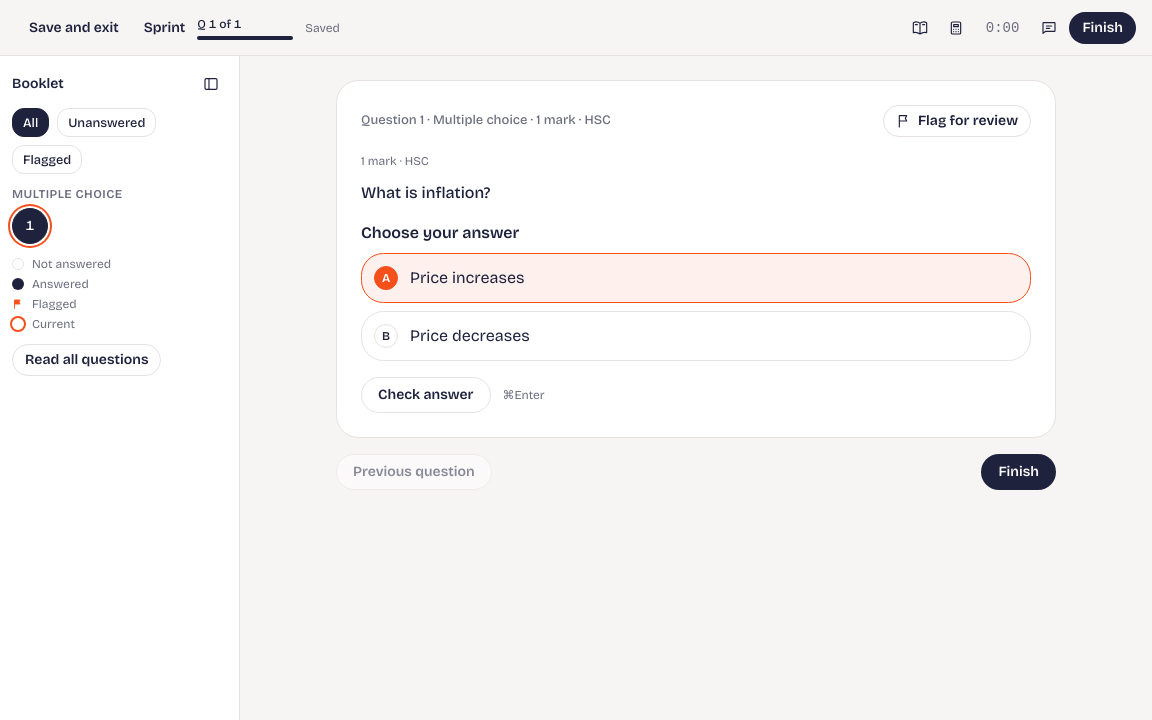
Test case: checks an MC sprint answer and renders its feedback
This screenshot has width=1152, height=720.
What coordinates should you click on to do the following:
click the button "Check answer"
I would click on:
 (426, 395)
Its box is [361, 377, 490, 413].
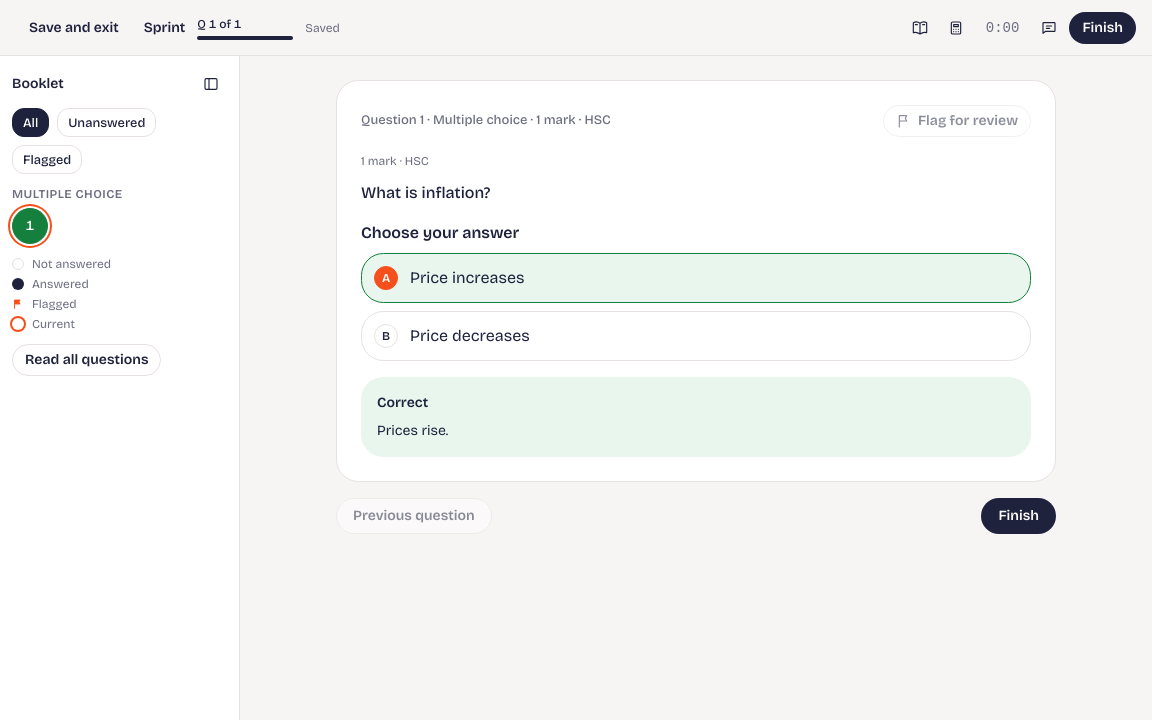
Expected: the text "Correct" is shown, [377, 394, 428, 411]
Expected: the text "Prices rise." is shown, [377, 422, 448, 439]
